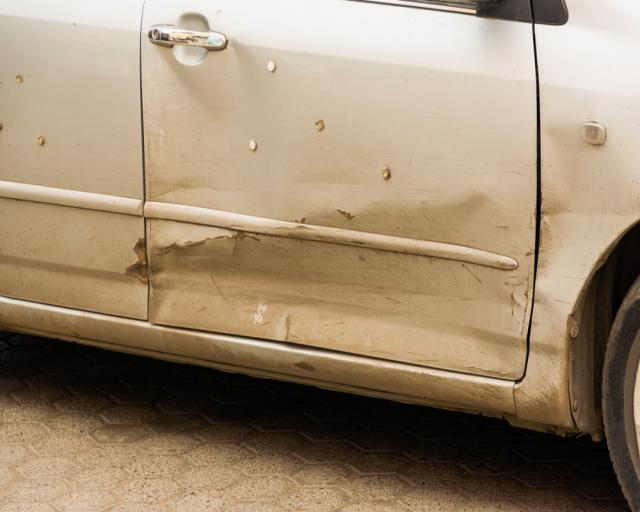dent: (153, 200, 513, 373), (535, 126, 630, 309), (156, 42, 262, 146)
